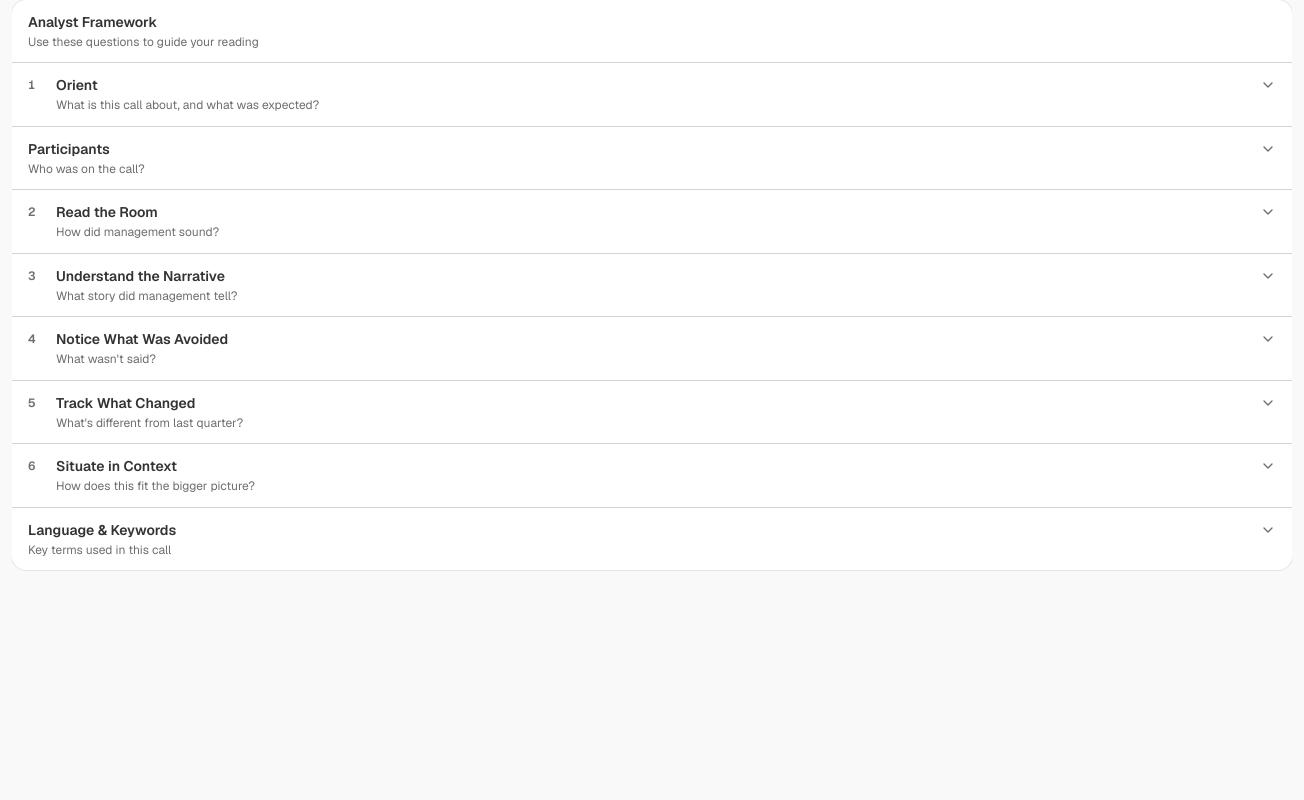
it: MetadataPanel › collapses an expanded section when its header is clicked again
Orient starts collapsed — click to expand then click to collapse
Click the text "Orient".
click(77, 85)  # box [56,76,98,94]
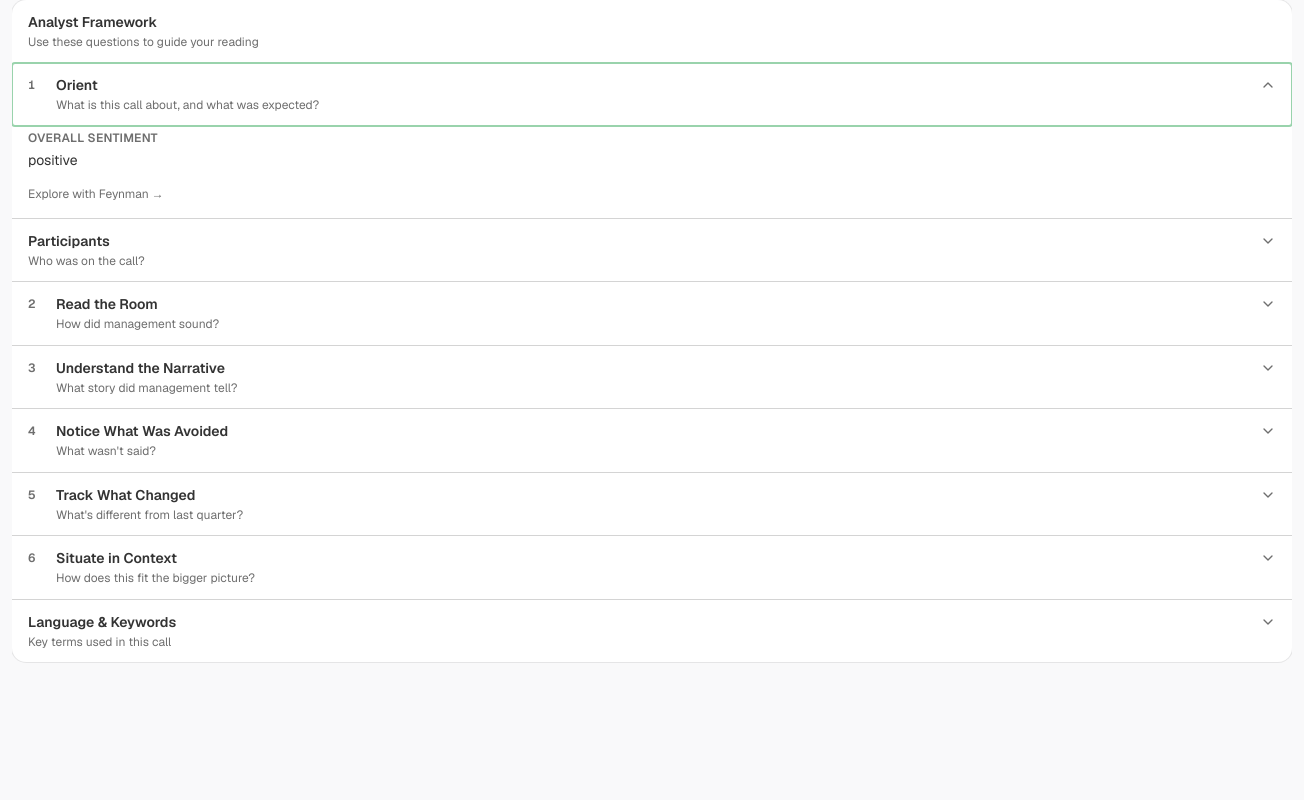
Check: the text "Overall sentiment" is shown, box [28,130,158,146]
Click the text "Orient".
click(77, 85)  # box [56,76,98,94]
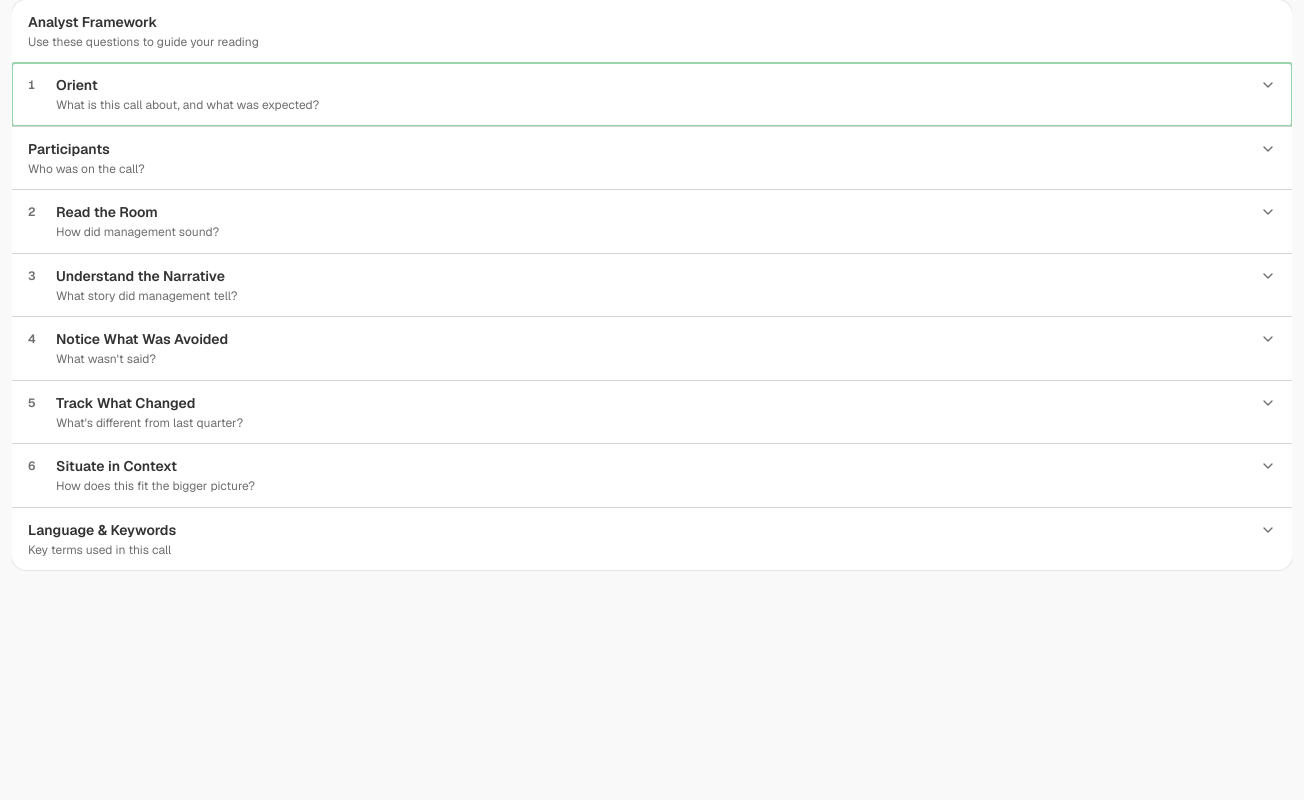
Check: the text "Overall sentiment" is gone
